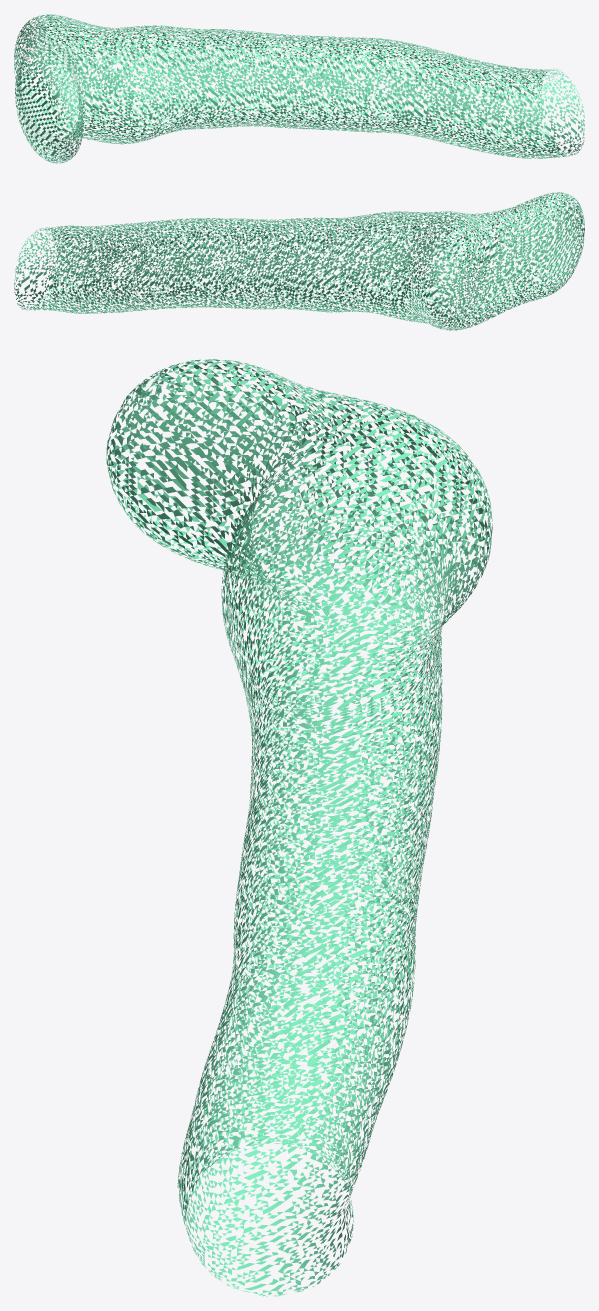
Rendered from healthy.glb.
3 views of the same model, one above another, from view 1: azimuth 30°, elevation 25°; view 2: azimuth 150°, elevation 25°; view 3: azimuth 270°, elevation 25° (orthographic). The views are drawn at different scales.
Bounding box in the file's own units: 137 × 56.48 × 44.37.
